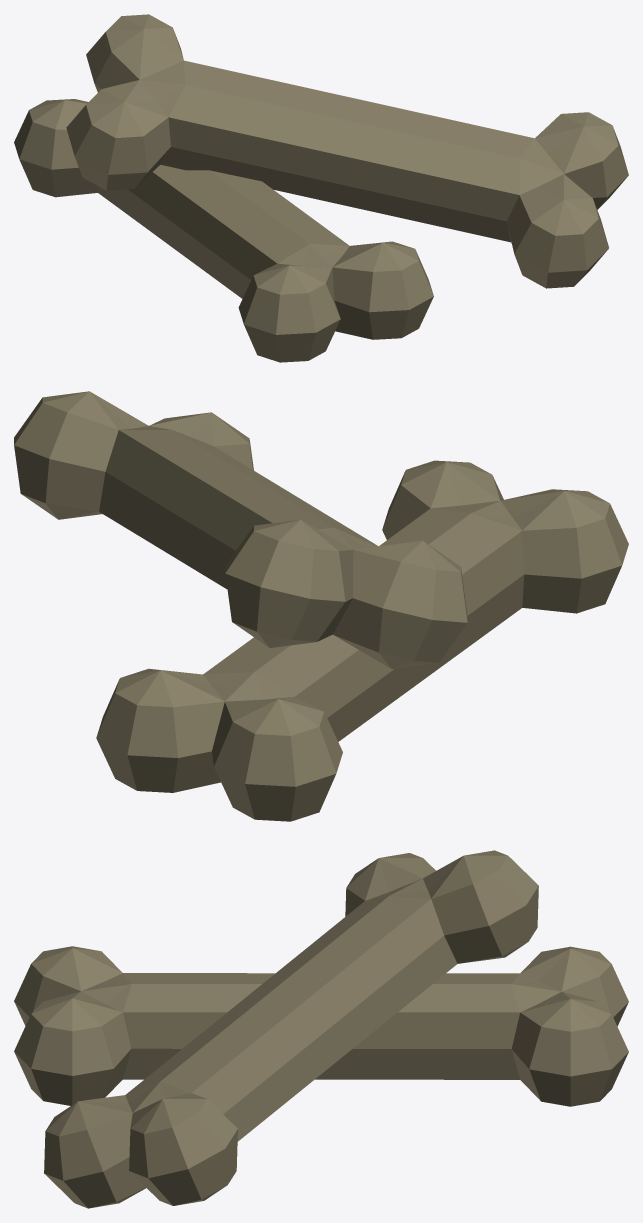
The model's file is BoneStack1.fbx.
The picture shows the model from 3 angles, top to bottom: view 1: azimuth 30°, elevation 25°; view 2: azimuth 150°, elevation 25°; view 3: azimuth 270°, elevation 25°; orthographic projection. The views are drawn at different scales.
Parts seen in each view (by area): view 1: Cylinder; view 2: Cylinder; view 3: Cylinder.
Part boxes in pixels (x1,y1,x2,y2): Cylinder: (14, 14, 628, 362); Cylinder: (14, 391, 628, 821); Cylinder: (14, 850, 628, 1208).
Bounding box in the file's own units: 0.2868 × 0.1181 × 0.3055.
